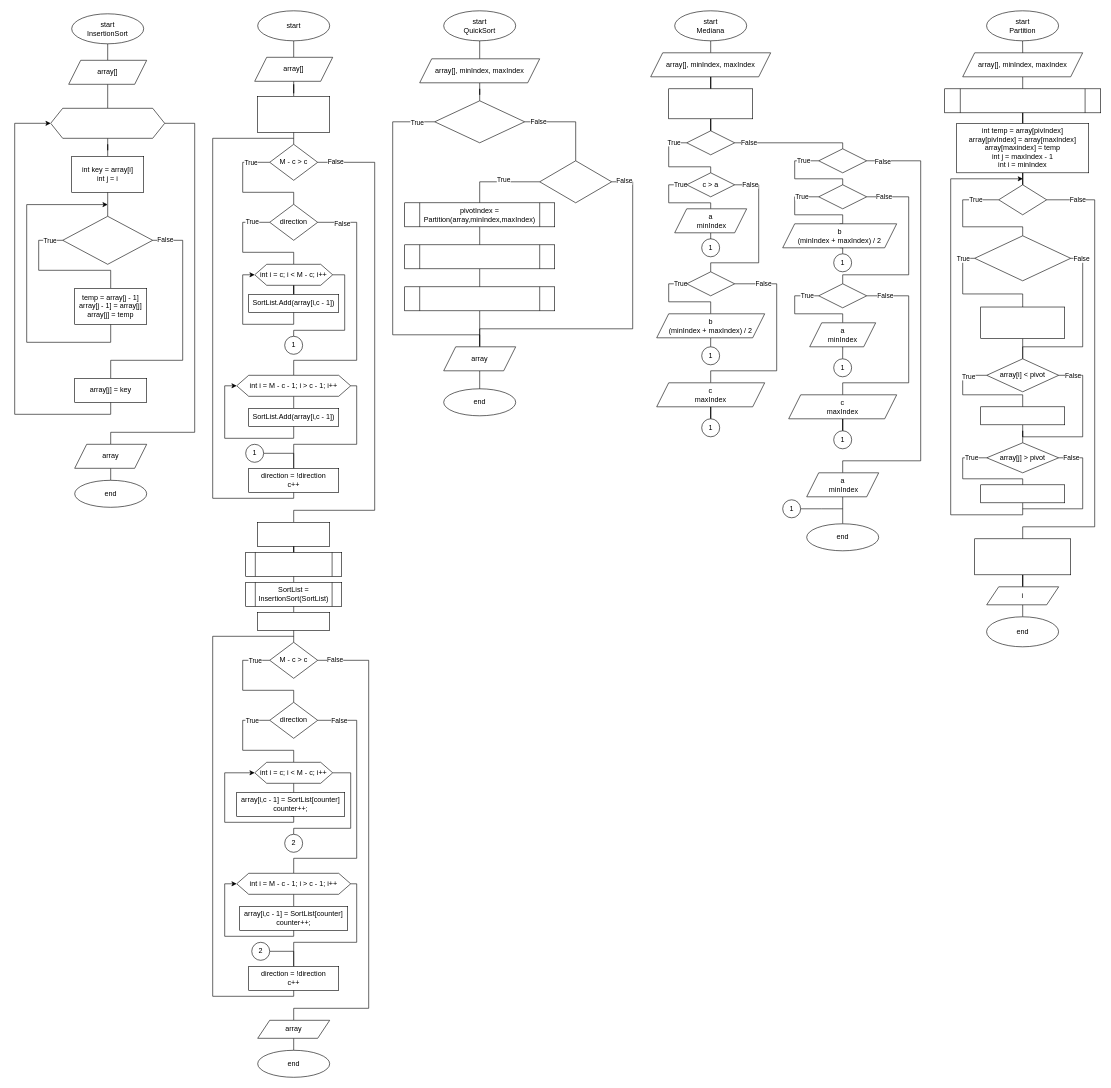
This 1111x1088 diagram has some shape labels left out. Each missing label, with the box of its shape:
a > b: (686, 130, 735, 155)
a > c: (818, 283, 867, 308)
array[i] >= pivot && array[j] <= pivot: (974, 235, 1071, 281)
b > a: (818, 148, 867, 173)
b > c: (686, 271, 735, 296)
c = 1 direction = true: (257, 522, 330, 546)
c > b: (818, 184, 867, 209)
i < j: (998, 184, 1047, 215)
i++: (980, 406, 1065, 425)
int a = array[minIndex] int b = array[minIndex] int c = array[minIndex]: (668, 88, 753, 119)
int counter = 0: (257, 612, 330, 630)
int i = 1; i < array.Count; i++: (50, 108, 165, 138)
int pivot, int pivIndex = Mediana(array, minIndex, maxIndex);: (944, 88, 1101, 113)
int temp = array[i] array[i] = array[j] array[j] = temp: (980, 306, 1065, 339)
int temp = array[i] array[i] = array[maxIndex] array[ maxIndex ] = temp: (974, 538, 1071, 575)
j > 1 && array[j] > key: (62, 216, 153, 264)
j--: (980, 484, 1065, 503)
maxnIndex - minIndex < M: (434, 100, 525, 143)
minIndex < maxIndex: (539, 160, 612, 203)
QuickSort(array, minIndex, pivotIndex): (404, 244, 555, 269)
QuickSort(array, pivotIndex + 1, maxIndex): (404, 286, 555, 311)
SortList = QuickSort(SortList): (245, 552, 342, 576)
SortList[] bool direction = true: (257, 96, 330, 132)
